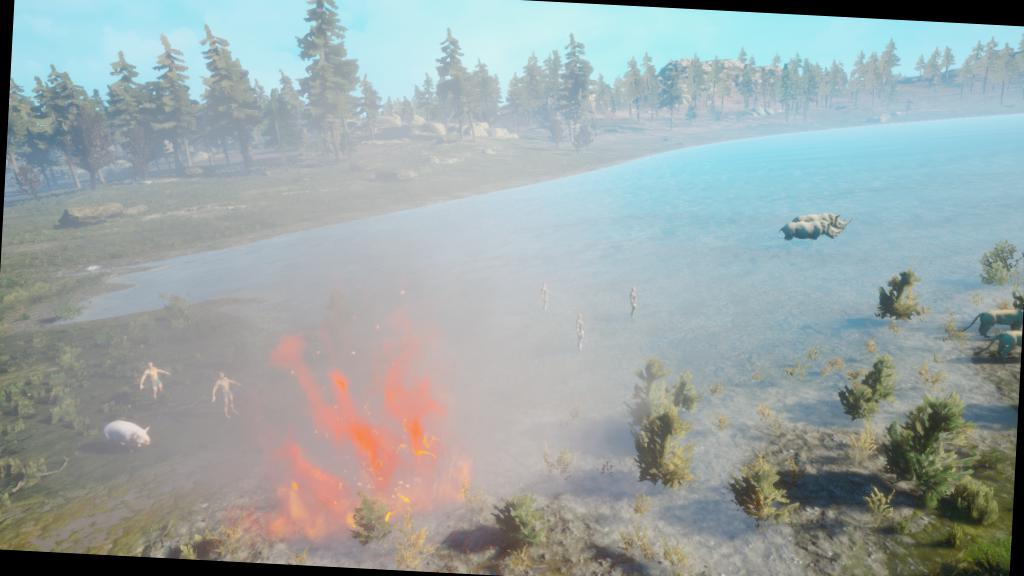Fire: (237, 314, 484, 560)
human: (204, 363, 244, 419), (138, 354, 175, 400), (534, 276, 558, 322), (570, 308, 592, 356), (624, 281, 646, 327)
lion: (971, 299, 1023, 338), (988, 328, 1022, 361)
pig: (98, 418, 158, 458)
rhinoceros: (779, 219, 841, 244), (792, 210, 852, 234)
smoke: (233, 225, 601, 567)
